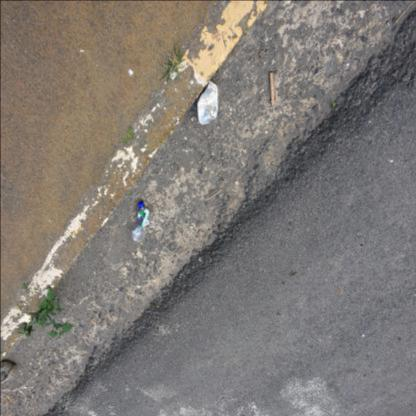Aluminium foil: (198, 81, 218, 125)
Bottle: (138, 202, 144, 207)
Bottle cap: (131, 201, 149, 242)
Cigarette: (23, 386, 27, 389)
